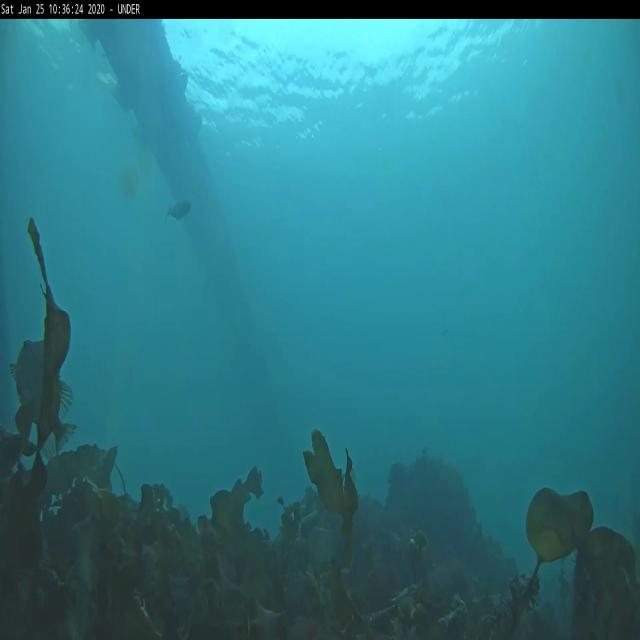fish: (166, 201, 194, 219)
